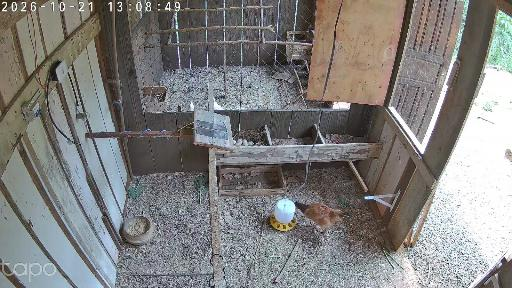galinha: (295, 202, 349, 235)
ovos: (233, 138, 254, 148)
pato: (213, 97, 224, 110), (188, 102, 195, 112)
